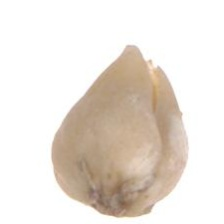L1: (89, 184, 153, 217), (124, 41, 160, 92)
L2: (51, 43, 188, 217)
